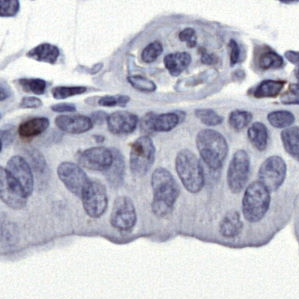Lymphocyte: (17, 120, 49, 139)
